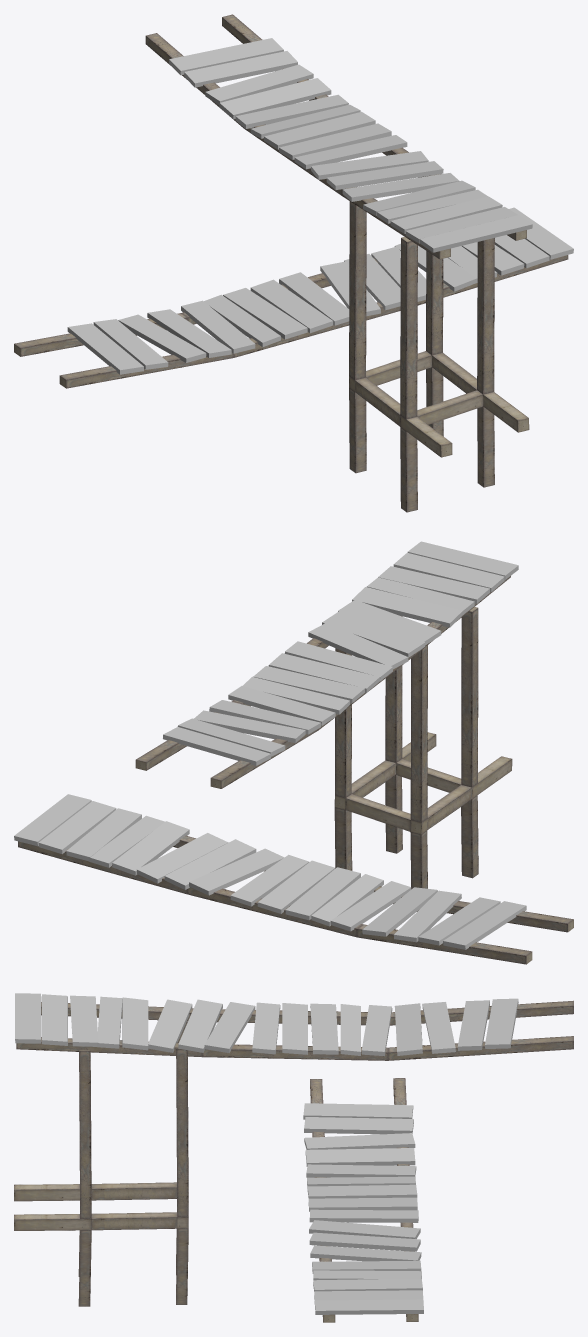
Rendered from SM_Level_Mine_Block01.fbx.
The picture shows the model from 3 angles, top to bottom: view 1: azimuth 30°, elevation 25°; view 2: azimuth 150°, elevation 25°; view 3: azimuth 270°, elevation 25°; orthographic projection. The views are drawn at different scales.
Parts seen in each view (by area): view 1: SM_Level_Mine_Block01; view 2: SM_Level_Mine_Block01; view 3: SM_Level_Mine_Block01.
Part boxes in pixels (x1,y1,x2,y2): SM_Level_Mine_Block01: (14, 14, 573, 512); SM_Level_Mine_Block01: (14, 541, 573, 964); SM_Level_Mine_Block01: (14, 993, 573, 1322).
Bounding box in the file's own units: 2448 × 1325 × 2442.
